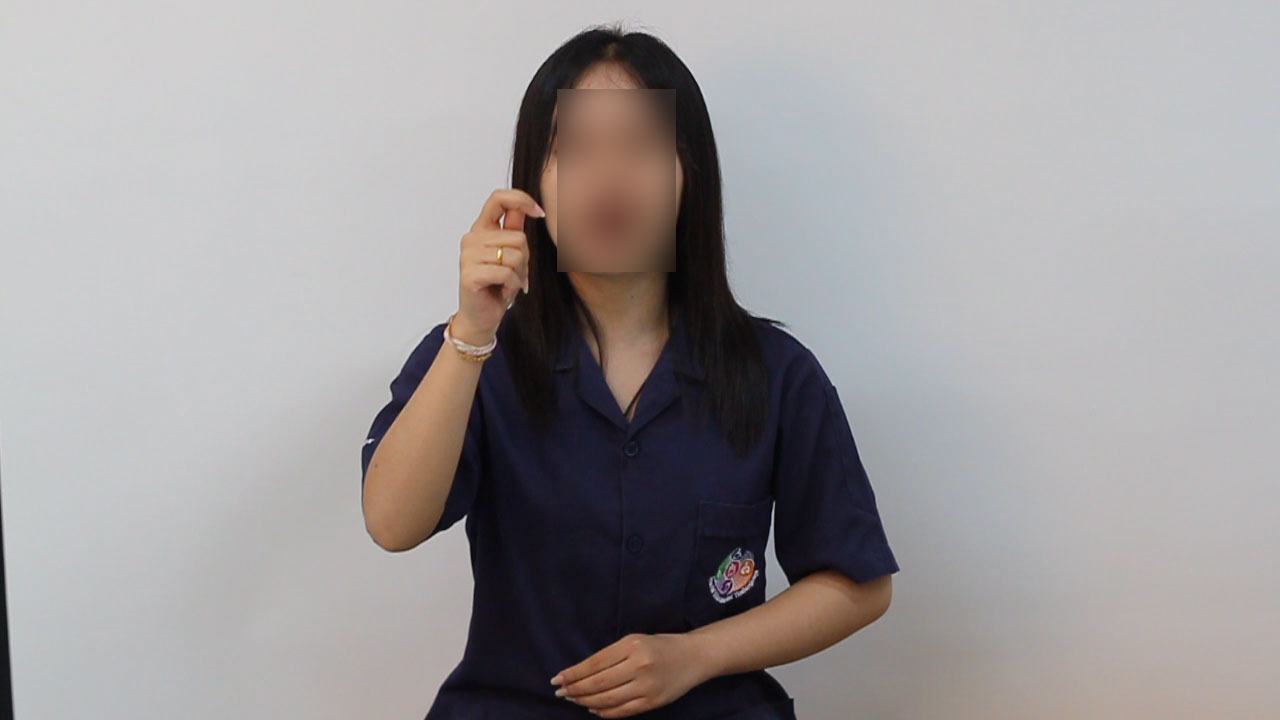or: (445, 182, 550, 344)
